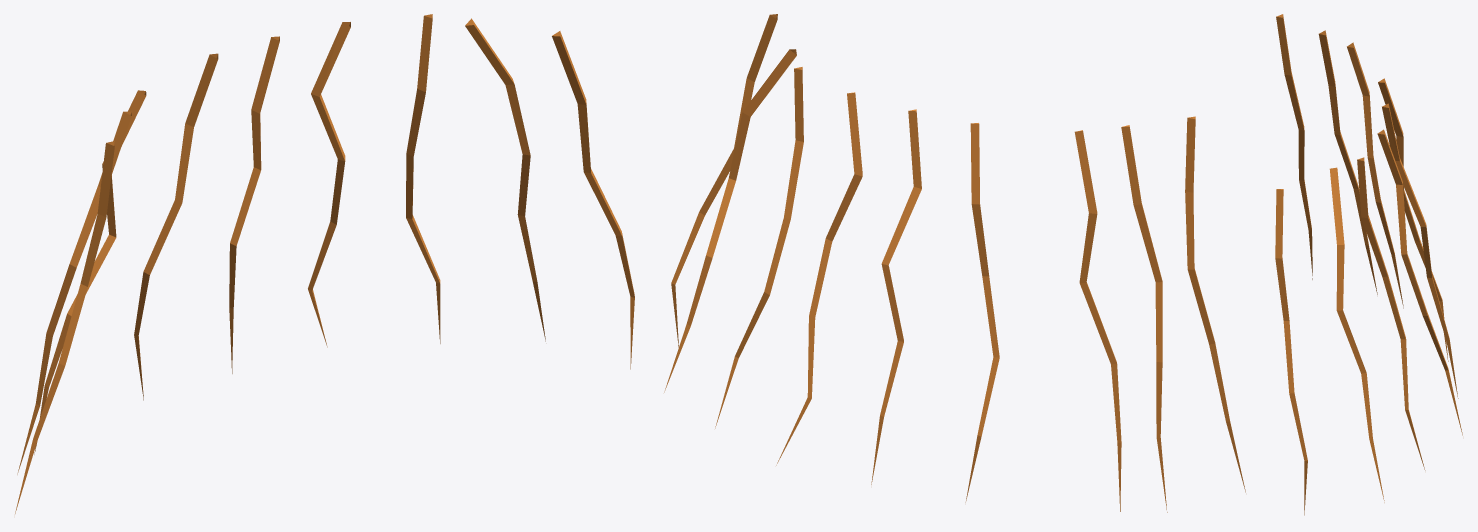
File: SatanIceCracks.obj
3 renders of one model, left to right at view 1: azimuth 30°, elevation 25°; view 2: azimuth 150°, elevation 25°; view 3: azimuth 270°, elevation 25°, orthographic. The views are drawn at different scales.
Parts seen in each view (by area): view 1: SatanIceCracks; view 2: SatanIceCracks; view 3: SatanIceCracks.
Boxes of the visible parts, bbox=[...] form: SatanIceCracks: bbox=[15, 14, 634, 513]; SatanIceCracks: bbox=[664, 14, 1245, 512]; SatanIceCracks: bbox=[1275, 14, 1462, 515].
Size of the model in its own units: 1.43 by 0.8257 by 0.4752.
Materials: 1 (1 with a texture image).
